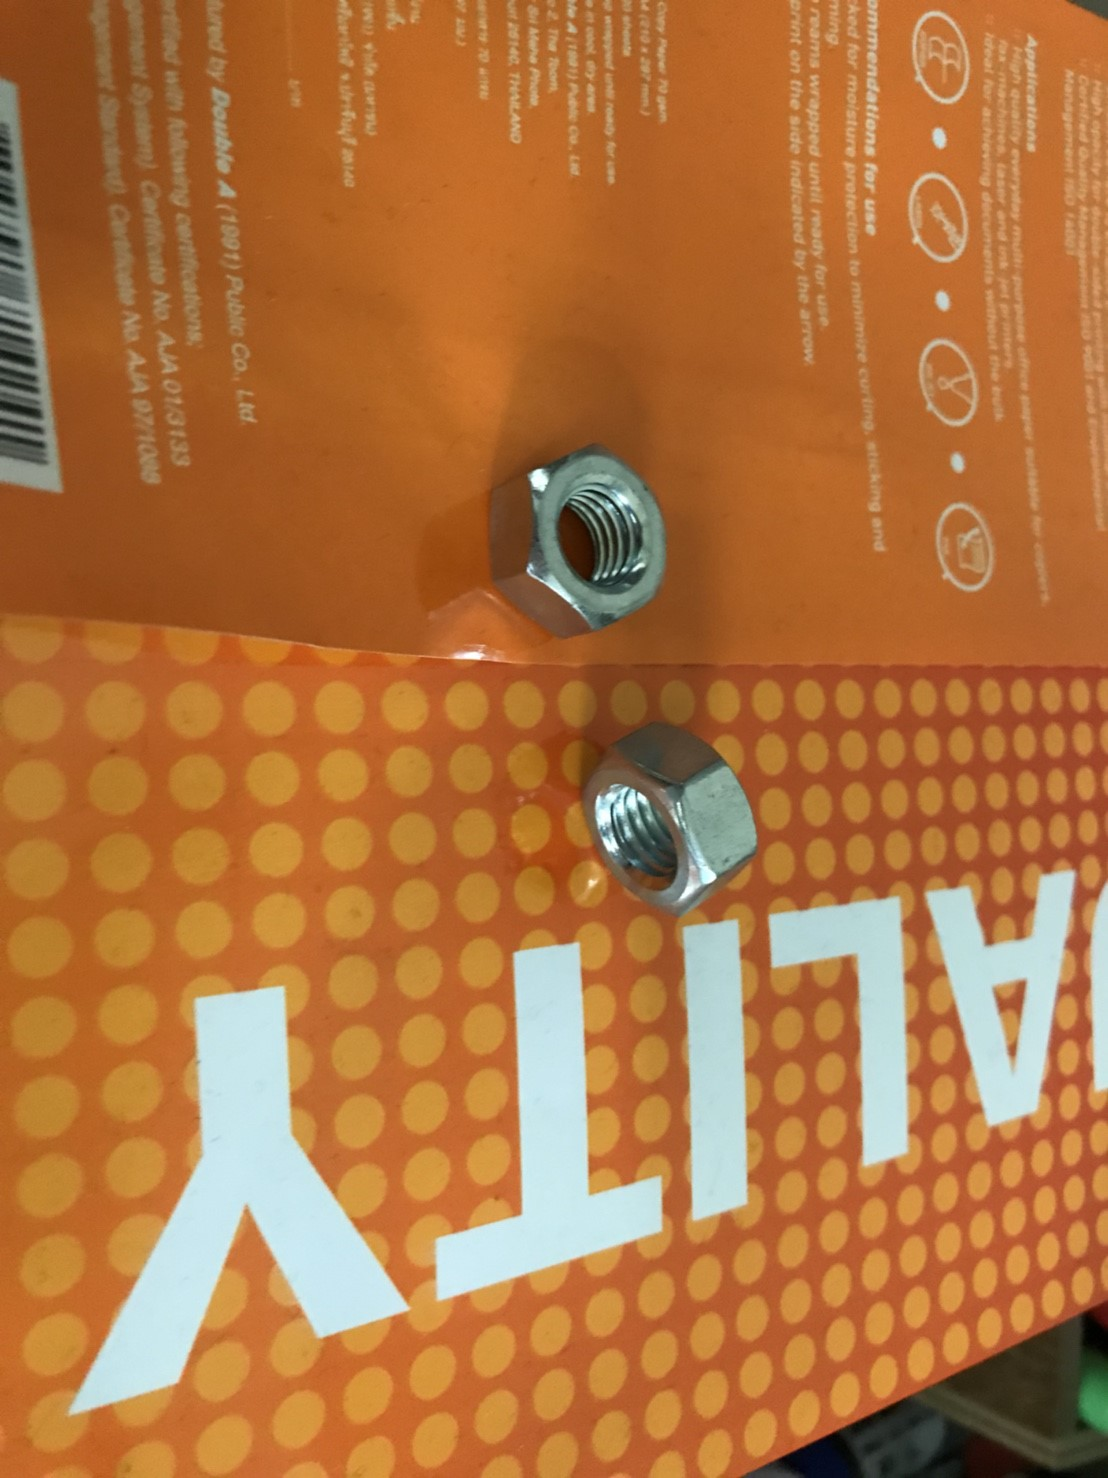nut: (488, 447, 675, 642), (570, 719, 754, 914)
